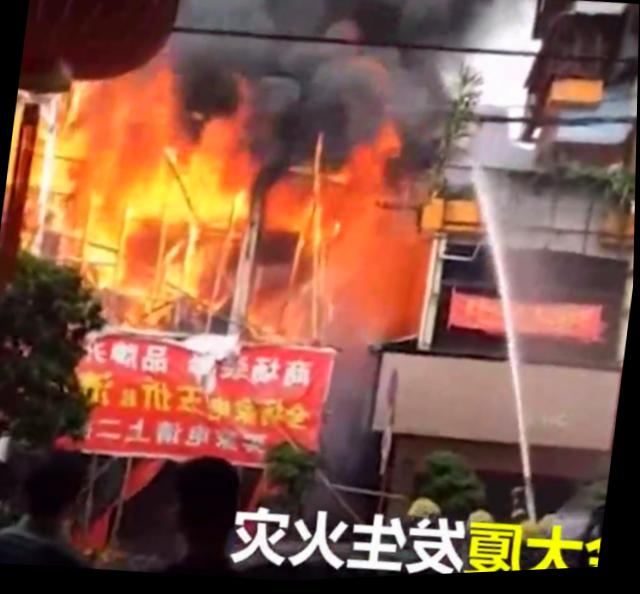fire: (43, 61, 180, 269), (321, 207, 425, 347), (162, 115, 257, 232), (343, 137, 397, 221), (262, 176, 317, 240), (162, 238, 219, 299)
